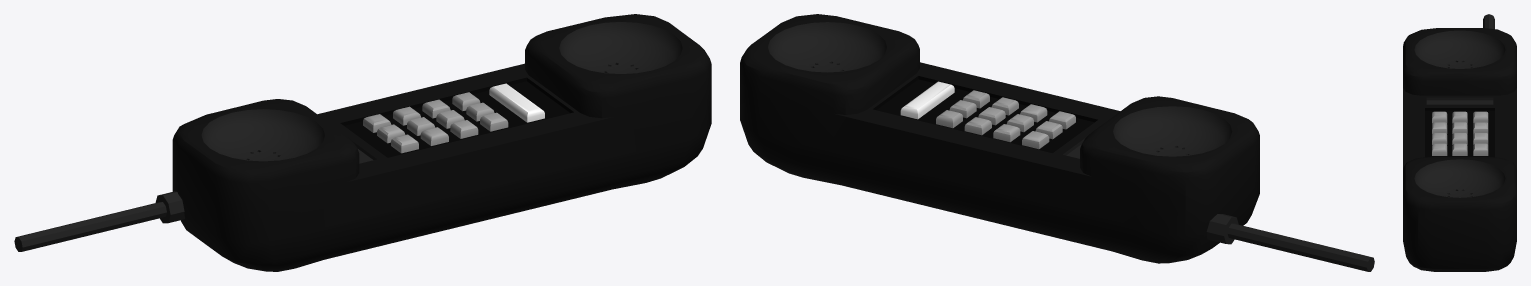
The model's file is Phone_Mobile_01.glb.
3 renders of one model, left to right at view 1: azimuth 30°, elevation 25°; view 2: azimuth 150°, elevation 25°; view 3: azimuth 270°, elevation 25°, orthographic. The views are drawn at different scales.
Parts seen in each view (by area): view 1: Mesh_Phone_Mobile_01; view 2: Mesh_Phone_Mobile_01; view 3: Mesh_Phone_Mobile_01.
Boxes of the visible parts, x1,y1,x2,y2 form: Mesh_Phone_Mobile_01: [14, 14, 711, 271]; Mesh_Phone_Mobile_01: [740, 14, 1374, 271]; Mesh_Phone_Mobile_01: [1403, 14, 1516, 271].
Bounding box in the file's own units: 0.2198 × 0.0379 × 0.0452.
1 material, 1 textured.
